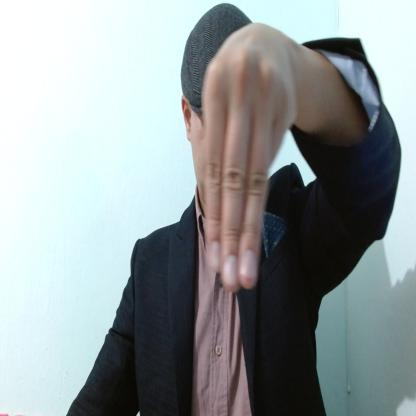M: (203, 25, 299, 288)
